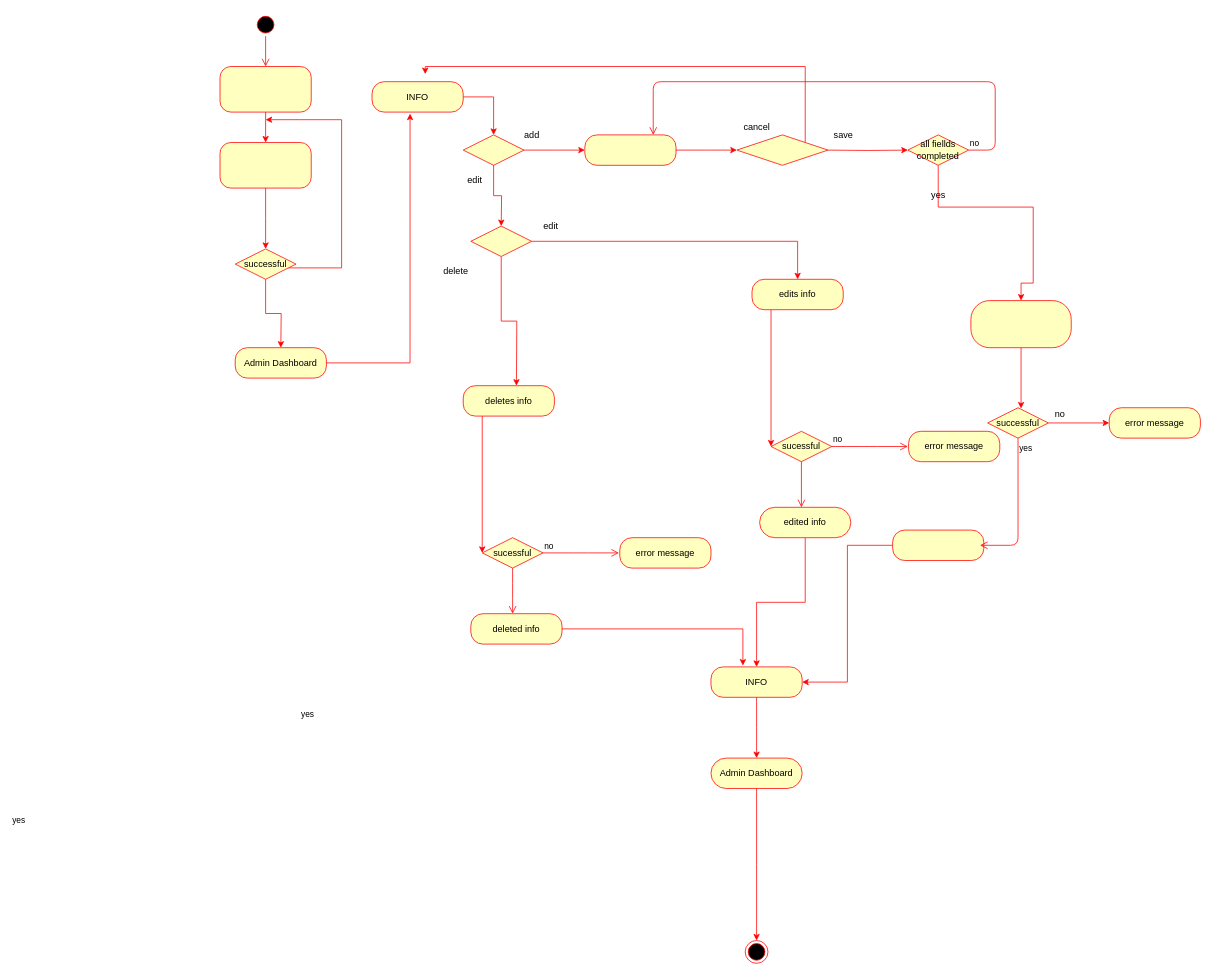
The diagram is 1214 pixels wide and 977 high, and some of its shapes have lost their labels. The shapes that lost their labels are listed below. From the top down, each one's box as (x1, y1, x2, y2) in pixels, then its label:
(219, 66, 311, 112): Open Dashboard
(219, 142, 311, 188): Log in
(584, 134, 676, 165): complete form
(970, 300, 1071, 348): adds info
(892, 529, 984, 560): new info is added
